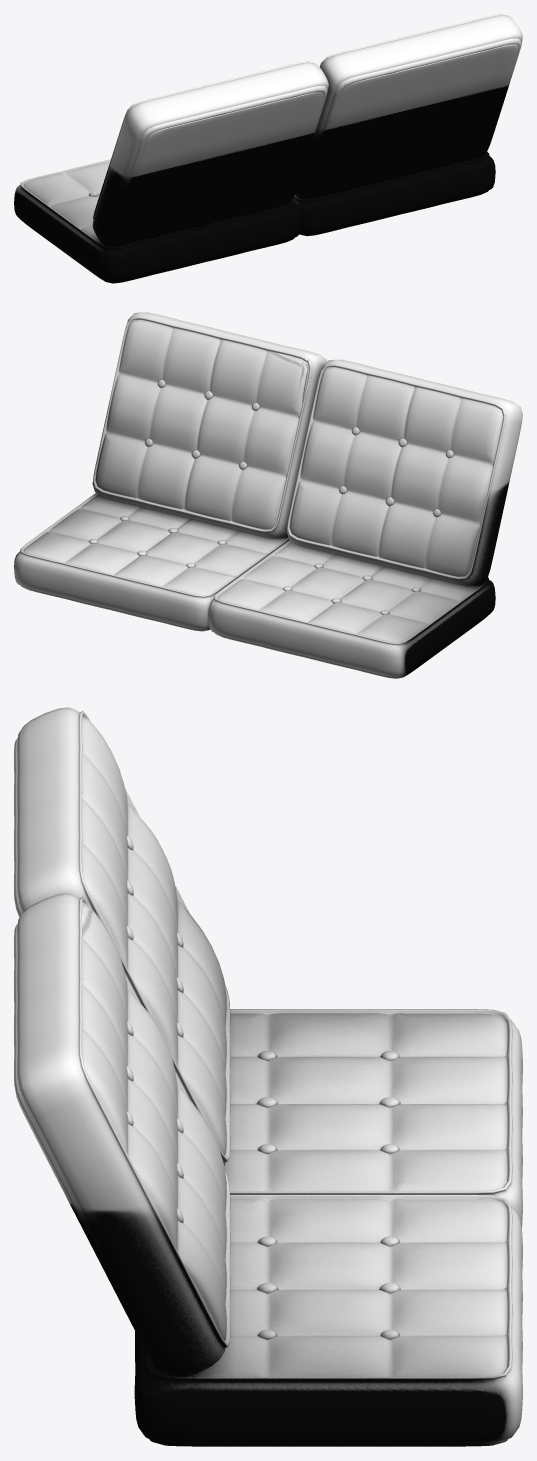
The model's file is cushion1.glb.
3 views of the same model, one above another, from view 1: azimuth 30°, elevation 25°; view 2: azimuth 150°, elevation 25°; view 3: azimuth 270°, elevation 25° (orthographic). The views are drawn at different scales.
Visible parts, largest first — view 1: cushion1; view 2: cushion1; view 3: cushion1.
Part boxes in pixels (<box>): cushion1: <box>14,14,522,283</box>; cushion1: <box>14,312,522,678</box>; cushion1: <box>14,707,522,1446</box>.
Size of the model in its own units: 1.68 by 0.7943 by 0.9559.
1 material, 1 textured.
